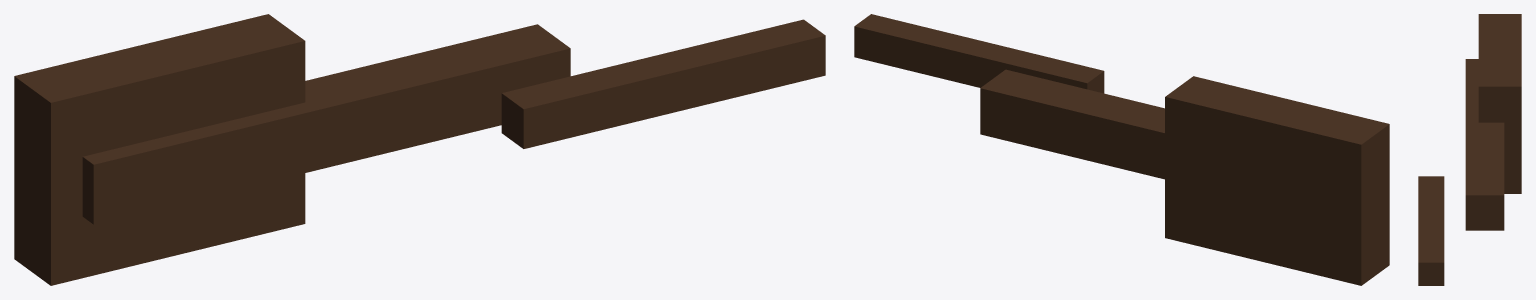
File: SM_ShFarmPlough.obj
3 renders of one model, left to right at view 1: azimuth 30°, elevation 25°; view 2: azimuth 150°, elevation 25°; view 3: azimuth 270°, elevation 25°, orthographic. The views are drawn at different scales.
Parts seen in each view (by area): view 1: SM_ShFarmPlough; view 2: SM_ShFarmPlough; view 3: SM_ShFarmPlough.
Part boxes in pixels (x1,y1,x2,y2): SM_ShFarmPlough: (14,14,825,285); SM_ShFarmPlough: (854,14,1389,285); SM_ShFarmPlough: (1418,14,1521,285).
Bounding box in the file's own units: 228 × 55 × 48.
